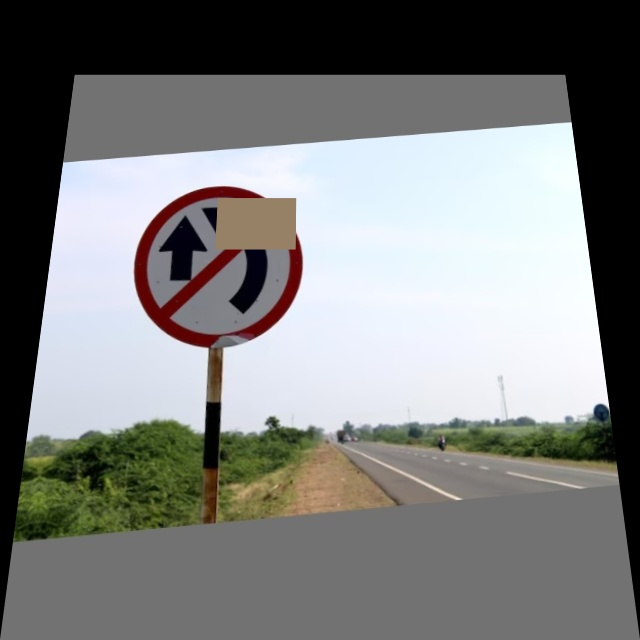Overtaking_Prohibited: (120, 178, 308, 357)
